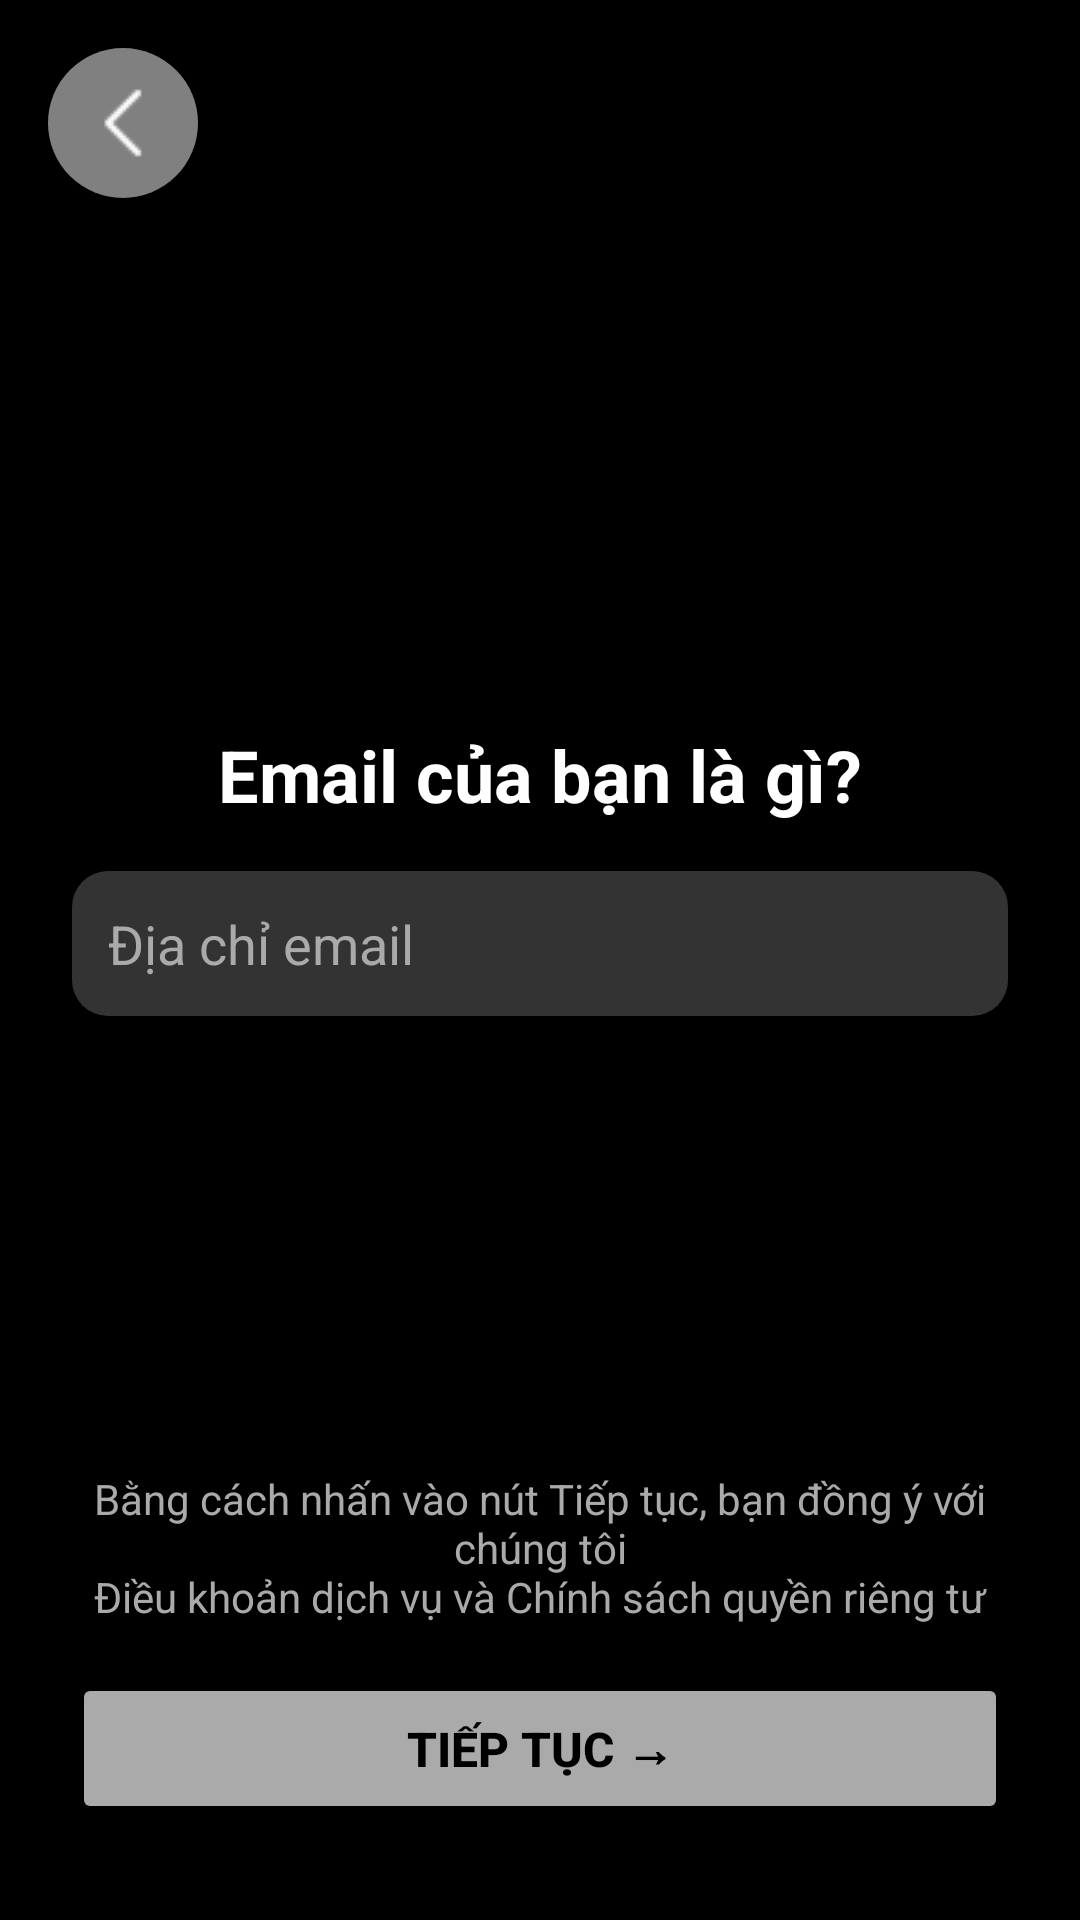

Where to tap for icons on this 1080x1920 app screen, as point (x, y):
Trờ về: point (123, 123)
